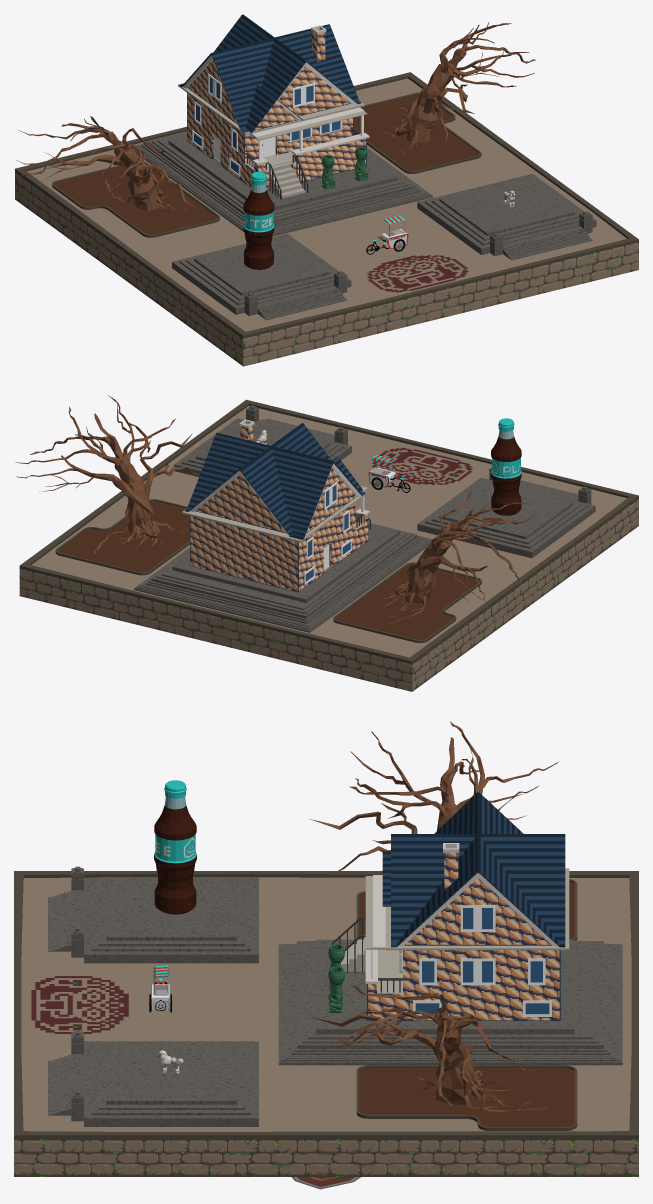
3 views of the same model, one above another, from view 1: azimuth 30°, elevation 25°; view 2: azimuth 150°, elevation 25°; view 3: azimuth 270°, elevation 25° (orthographic). The views are drawn at different scales.
Parts seen in each view (by area): view 1: Cube.011, Cube.430, OBJRANDOM_PLATZEECOLA, VEHICLES_SNOWBAL_BIKE; view 2: Cube.011, Cube.430, OBJRANDOM_PLATZEECOLA, VEHICLES_SNOWBAL_BIKE; view 3: Cube.011, Cube.430, OBJRANDOM_PLATZEECOLA, VEHICLES_SNOWBAL_BIKE.
Part boxes in pixels (bbox=[...]): Cube.011: bbox=[15, 22, 638, 366]; Cube.430: bbox=[178, 14, 369, 199]; OBJRANDOM_PLATZEECOLA: bbox=[243, 171, 274, 269]; VEHICLES_SNOWBAL_BIKE: bbox=[366, 215, 408, 254]; Cube.011: bbox=[15, 395, 638, 691]; Cube.430: bbox=[182, 419, 370, 592]; OBJRANDOM_PLATZEECOLA: bbox=[491, 418, 521, 515]; VEHICLES_SNOWBAL_BIKE: bbox=[368, 455, 410, 492]; Cube.011: bbox=[14, 721, 638, 1176]; Cube.430: bbox=[332, 792, 569, 1020]; OBJRANDOM_PLATZEECOLA: bbox=[154, 780, 196, 914]; VEHICLES_SNOWBAL_BIKE: bbox=[149, 965, 172, 1012].
Bounding box in the file's own units: 5099 × 2376 × 4000.
Materials: 38 (6 with a texture image).
